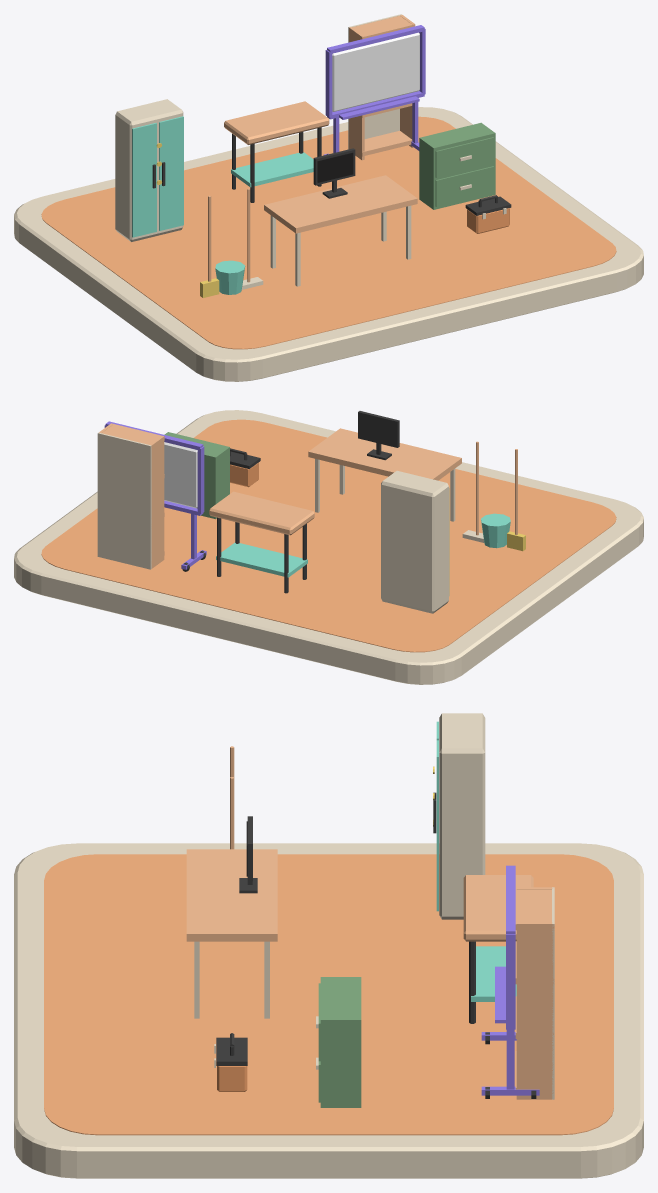
3 renders of one model, top to bottom at view 1: azimuth 30°, elevation 25°; view 2: azimuth 150°, elevation 25°; view 3: azimuth 270°, elevation 25°, orthographic. The views are drawn at different scales.
Parts seen in each view (by area): view 1: COM-02 Floor Surface, COM-01 Rounded Base Direct, Top, Cabinet, Writing surface, Equipment case, Door, Worktop, Door.001, Lower shelf, Frame, Back (+8 smaller); view 2: COM-02 Floor Surface, COM-01 Rounded Base Direct, Equipment case, Back, Top, Worktop, Writing surface, Cabinet, Lower shelf, Side, Frame, Bucket (+4 smaller); view 3: COM-02 Floor Surface, COM-01 Rounded Base Direct, Top, Equipment case, Side.001, Cabinet, Worktop, Shelf.003, Lower shelf, Frame upright.001, Lid, Box (+2 smaller).
Boxes of the visible parts, x1=… form: COM-02 Floor Surface: x1=41, y1=116, x2=616, y2=349; COM-01 Rounded Base Direct: x1=14, y1=107, x2=643, y2=381; Top: x1=264, y1=175, x2=417, y2=286; Cabinet: x1=419, y1=122, x2=495, y2=209; Writing surface: x1=332, y1=32, x2=419, y2=111; Equipment case: x1=115, y1=99, x2=183, y2=241; Door: x1=132, y1=123, x2=156, y2=237; Worktop: x1=224, y1=101, x2=329, y2=144; Door.001: x1=159, y1=116, x2=183, y2=230; Lower shelf: x1=231, y1=152, x2=313, y2=187; Frame: x1=313, y1=148, x2=355, y2=198; Back: x1=348, y1=14, x2=402, y2=149; COM-02 Floor Surface: x1=41, y1=419, x2=616, y2=652; COM-01 Rounded Base Direct: x1=14, y1=410, x2=643, y2=684; Equipment case: x1=381, y1=470, x2=448, y2=613; Back: x1=97, y1=432, x2=151, y2=569; Top: x1=308, y1=428, x2=461, y2=521; Worktop: x1=209, y1=491, x2=314, y2=535; Writing surface: x1=164, y1=442, x2=197, y2=508; Cabinet: x1=164, y1=432, x2=229, y2=519; Lower shelf: x1=216, y1=542, x2=307, y2=577; Side: x1=149, y1=435, x2=164, y2=568; Frame: x1=358, y1=411, x2=399, y2=460; Bucket: x1=481, y1=513, x2=510, y2=548; COM-02 Floor Surface: x1=44, y1=854, x2=613, y2=1135; COM-01 Rounded Base Direct: x1=14, y1=843, x2=643, y2=1178; Top: x1=186, y1=849, x2=277, y2=1018; Equipment case: x1=439, y1=713, x2=485, y2=919; Side.001: x1=516, y1=922, x2=553, y2=1099; Cabinet: x1=316, y1=977, x2=361, y2=1107; Worktop: x1=463, y1=875, x2=533, y2=941; Shelf.003: x1=515, y1=887, x2=554, y2=930; Lower shelf: x1=471, y1=946, x2=516, y2=1001; Frame upright.001: x1=506, y1=934, x2=515, y2=1027; Lid: x1=216, y1=1037, x2=247, y2=1065; Box: x1=217, y1=1066, x2=247, y2=1091.
Size of the model in its own units: 6 by 1.9 by 5.2.
Materials: 1 (1 with a texture image).
